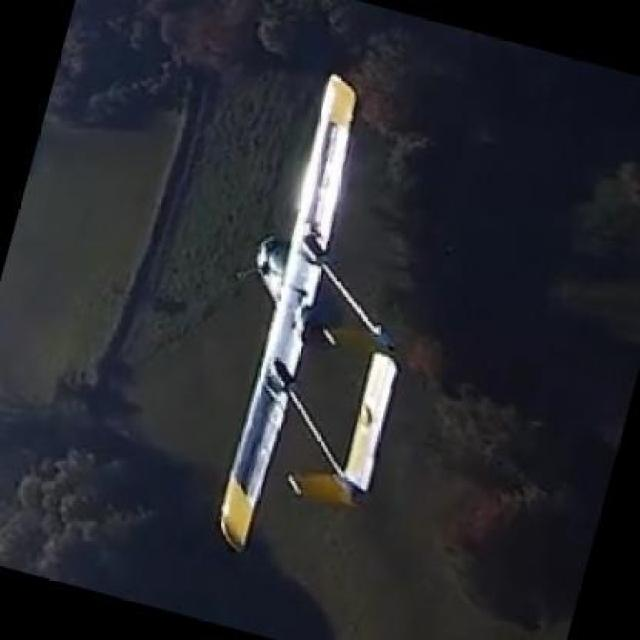iha: (208, 68, 400, 565)
